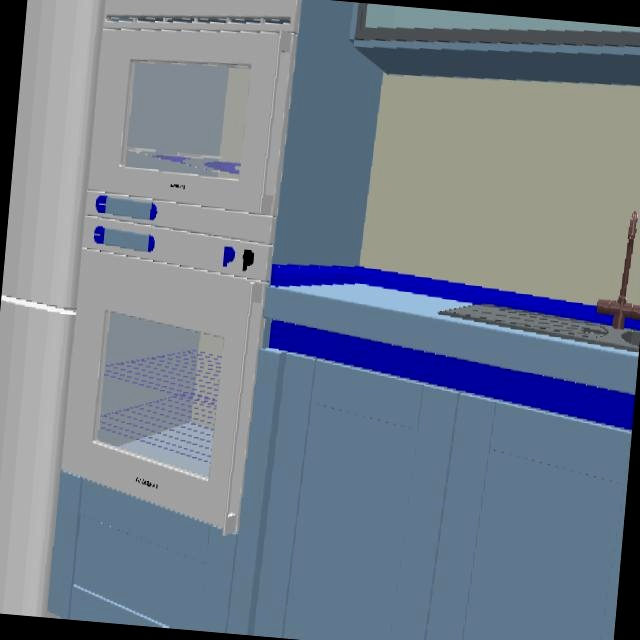cabinet: (42, 350, 631, 640), (348, 1, 640, 87)
countertop: (262, 284, 638, 433)
microwave: (85, 0, 299, 244)
oven: (61, 215, 273, 538)
sink: (438, 304, 640, 352)
